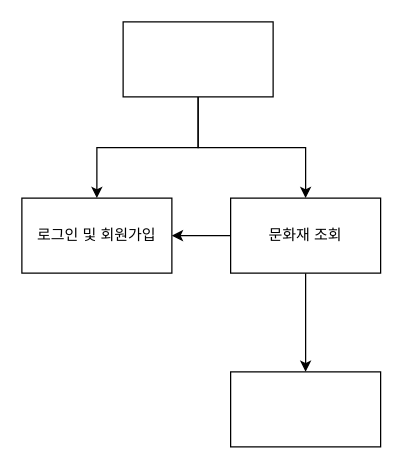
The diagram is 403 pixels wide and 469 high, and some of its shapes have lost their labels. Each missing label, with the box of its shape:
가이드 예약: (229, 371, 381, 447)
메인페이지: (122, 21, 273, 97)
